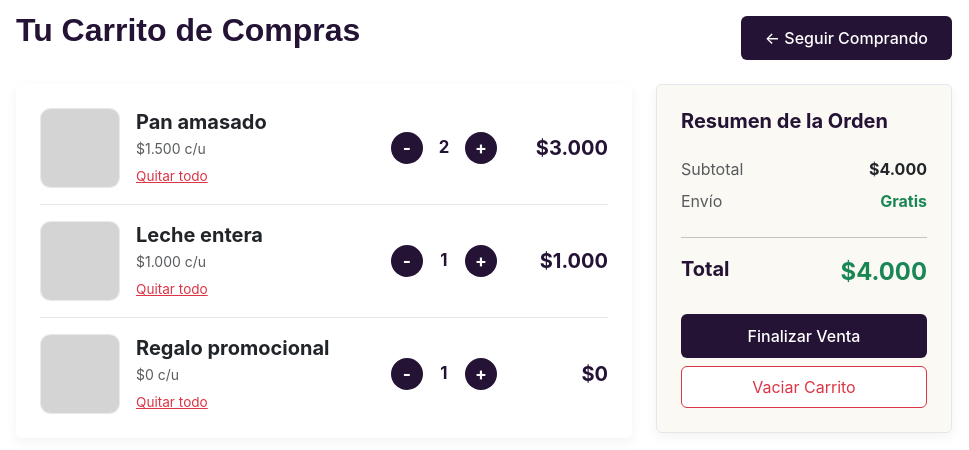
Test case: Pruebas unitarias para Carrito de Compras › finaliza la compra exitosamente y vacía el carrito
The width and height of the screenshot is (969, 450).
Click the button "Finalizar Venta" at (804, 336), box [681, 314, 927, 358]
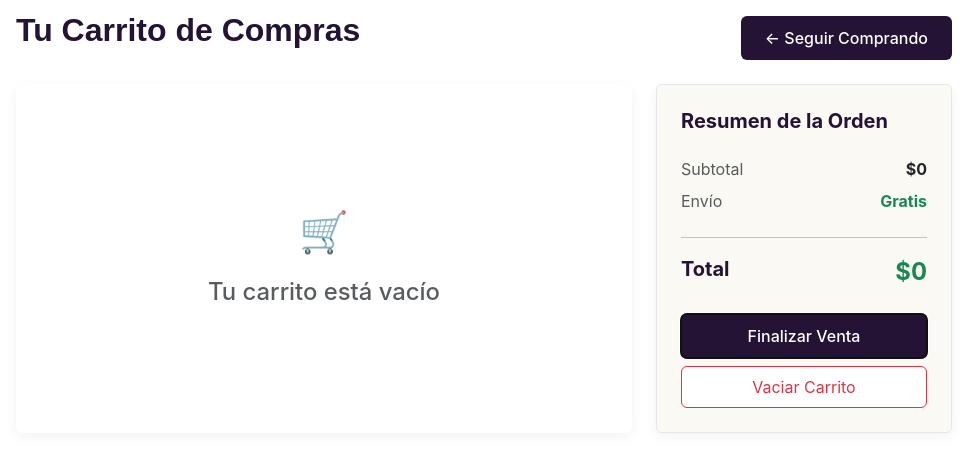
Now the heading "Tu carrito está vacío" is shown, box [208, 277, 440, 306]
